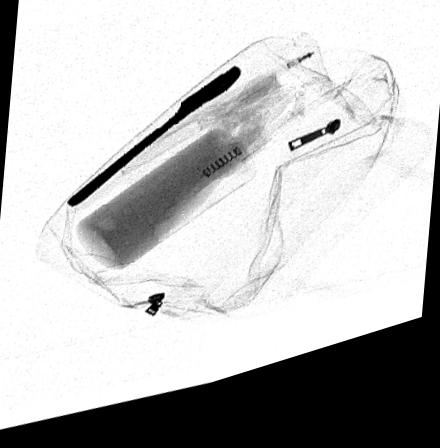Wrench: (63, 79, 243, 216)
